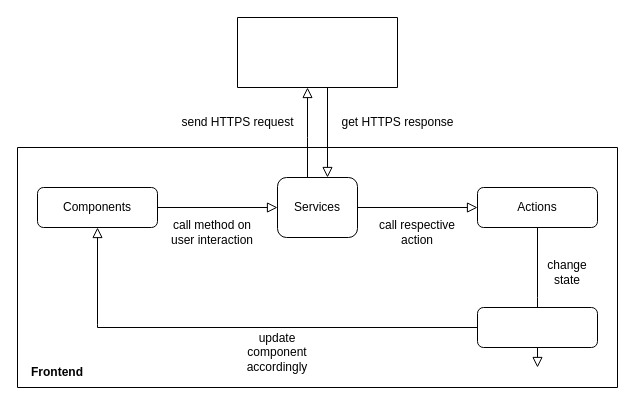
Some shapes in this 635 by 405 pixel diagram are drawn without their labels. The box of each missing label's shape, as (x1, y1, x2, y2) in pixels:
Backend API: (236, 16, 398, 88)
Reducers: (476, 306, 598, 348)
